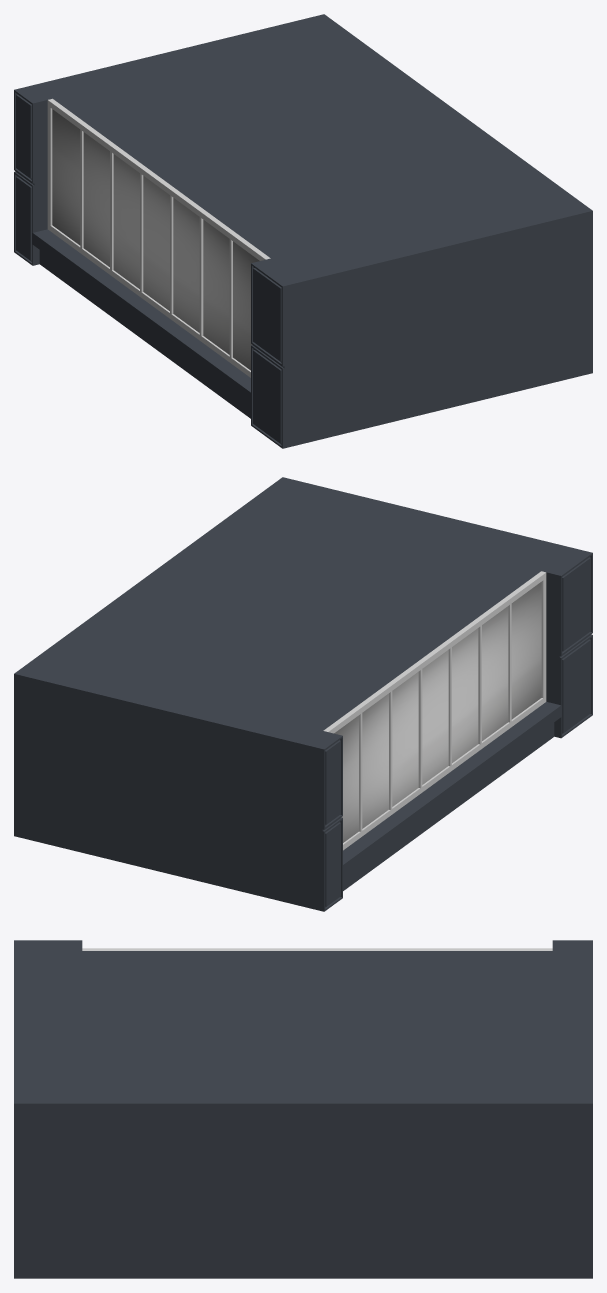
File: Wall_20_Fake_Interior_Middle.FBX
3 renders of one model, top to bottom at view 1: azimuth 30°, elevation 25°; view 2: azimuth 150°, elevation 25°; view 3: azimuth 270°, elevation 25°, orthographic. The views are drawn at different scales.
Visible parts, largest first — view 1: Wall_20_Fake_Interior_Middle_LOD0; view 2: Wall_20_Fake_Interior_Middle_LOD0; view 3: Wall_20_Fake_Interior_Middle_LOD0.
Boxes of the visible parts, x1=… form: Wall_20_Fake_Interior_Middle_LOD0: x1=14, y1=14, x2=592, y2=448; Wall_20_Fake_Interior_Middle_LOD0: x1=14, y1=477, x2=592, y2=911; Wall_20_Fake_Interior_Middle_LOD0: x1=14, y1=940, x2=592, y2=1278.
Size of what is drawn, in the model's own units: 360 by 180 by 540.
